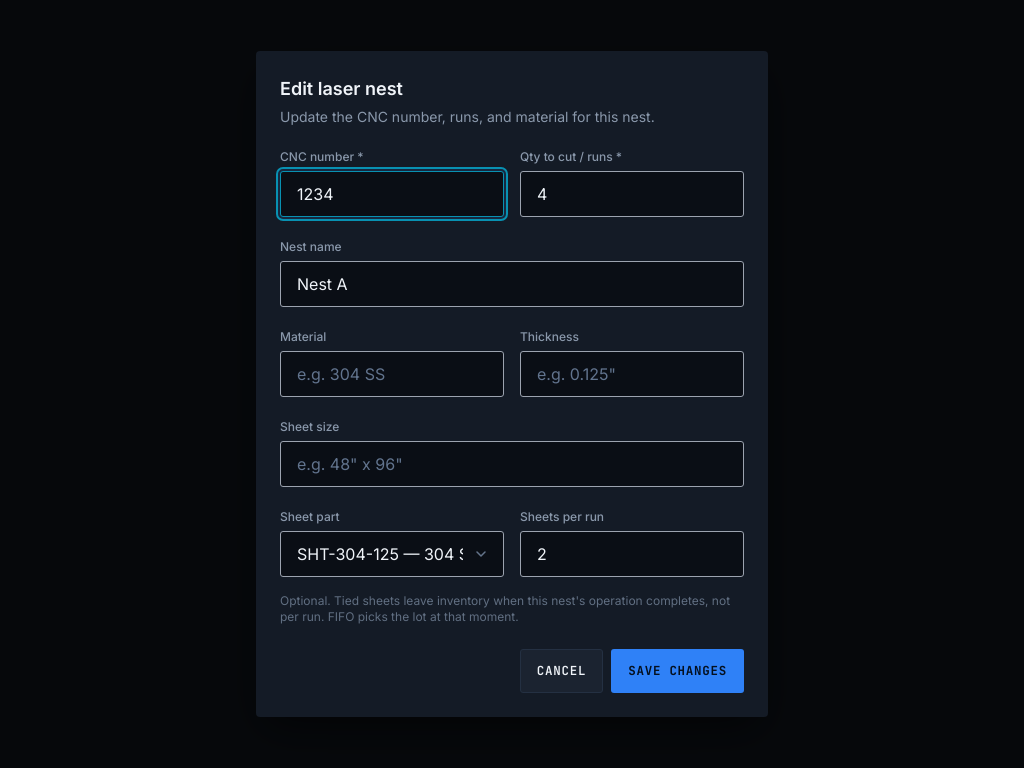
Test: edit path › surfaces the server refusal verbatim and keeps the modal open (non-optimistic)
The image size is (1024, 768).
Select "(none)" in the dropdown labelled "Sheet part": (392, 554) [280, 531, 504, 577]
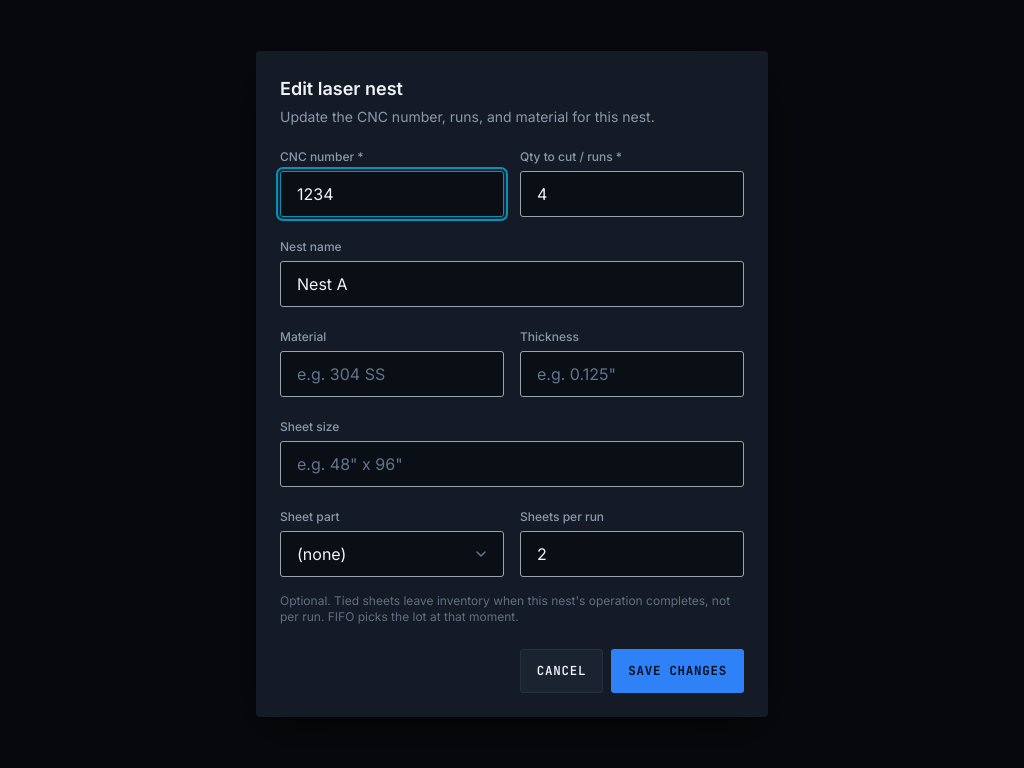
Click the button "Save changes": (678, 671) [611, 649, 744, 693]
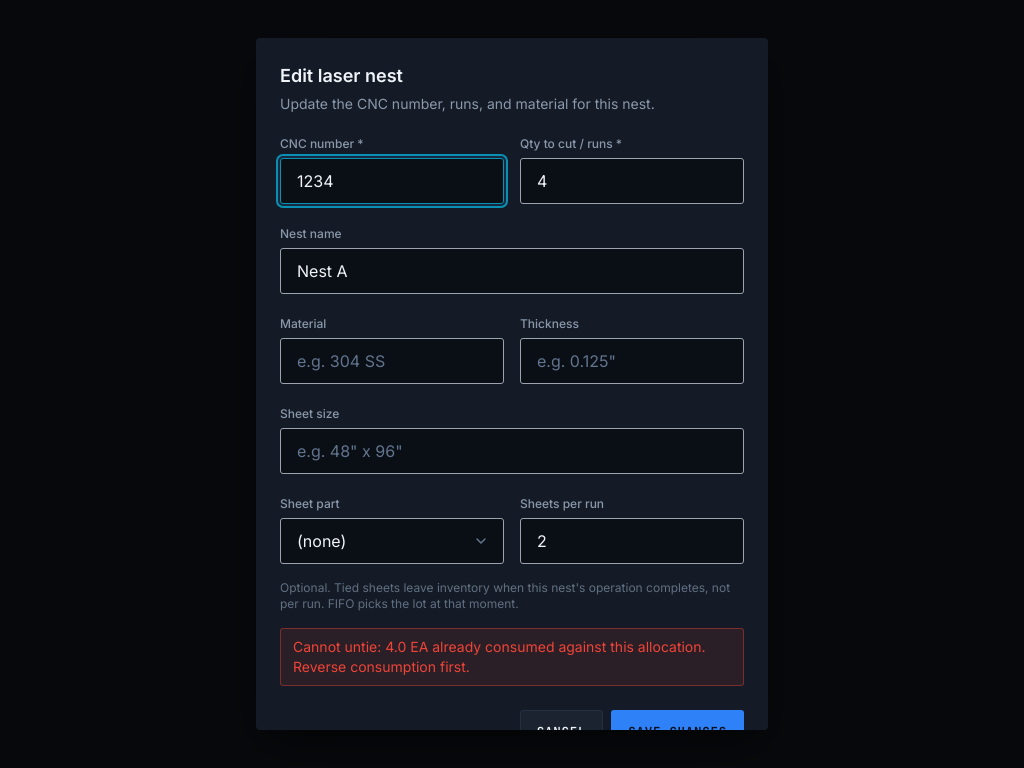
Now the text "4.0 EA already consumed against this allocation" is shown, box [293, 638, 706, 675]
